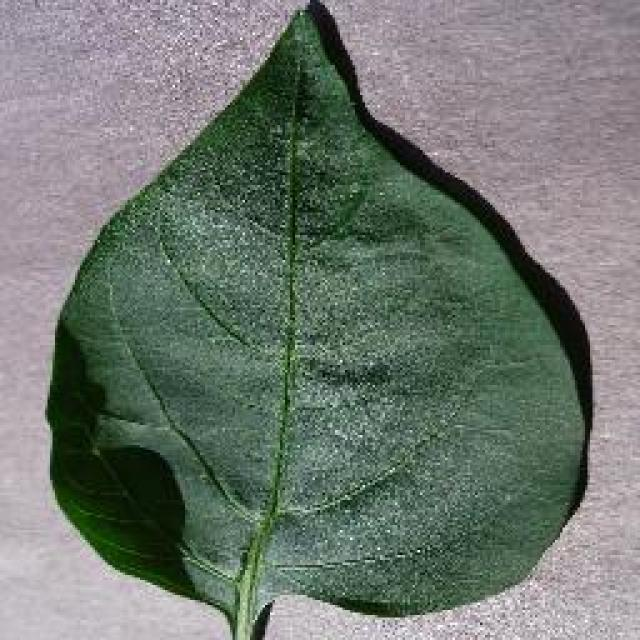Chilli_Healthy: (42, 0, 592, 638)
